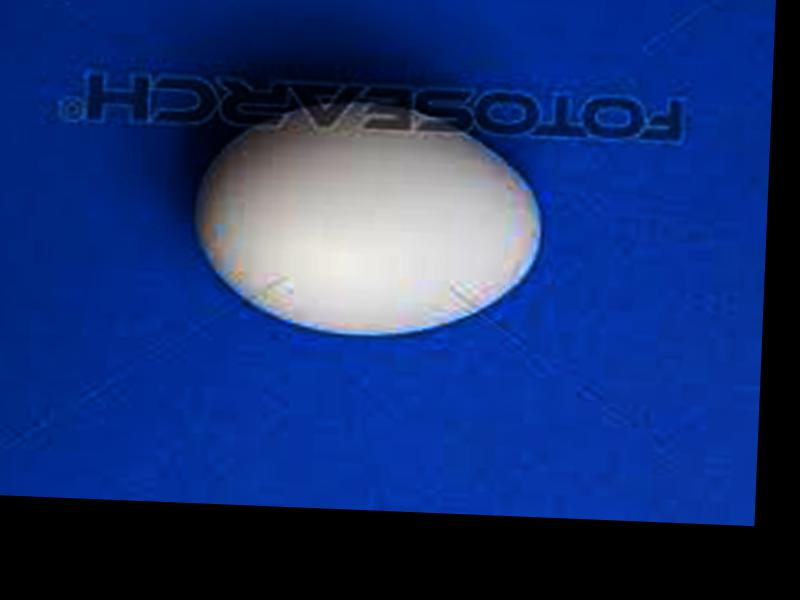Eggs: (190, 88, 545, 341)
